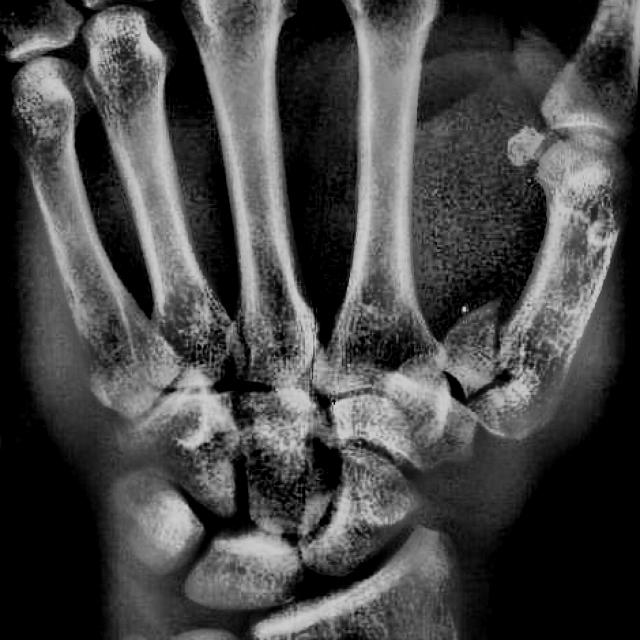fracture: (440, 316, 521, 423)
